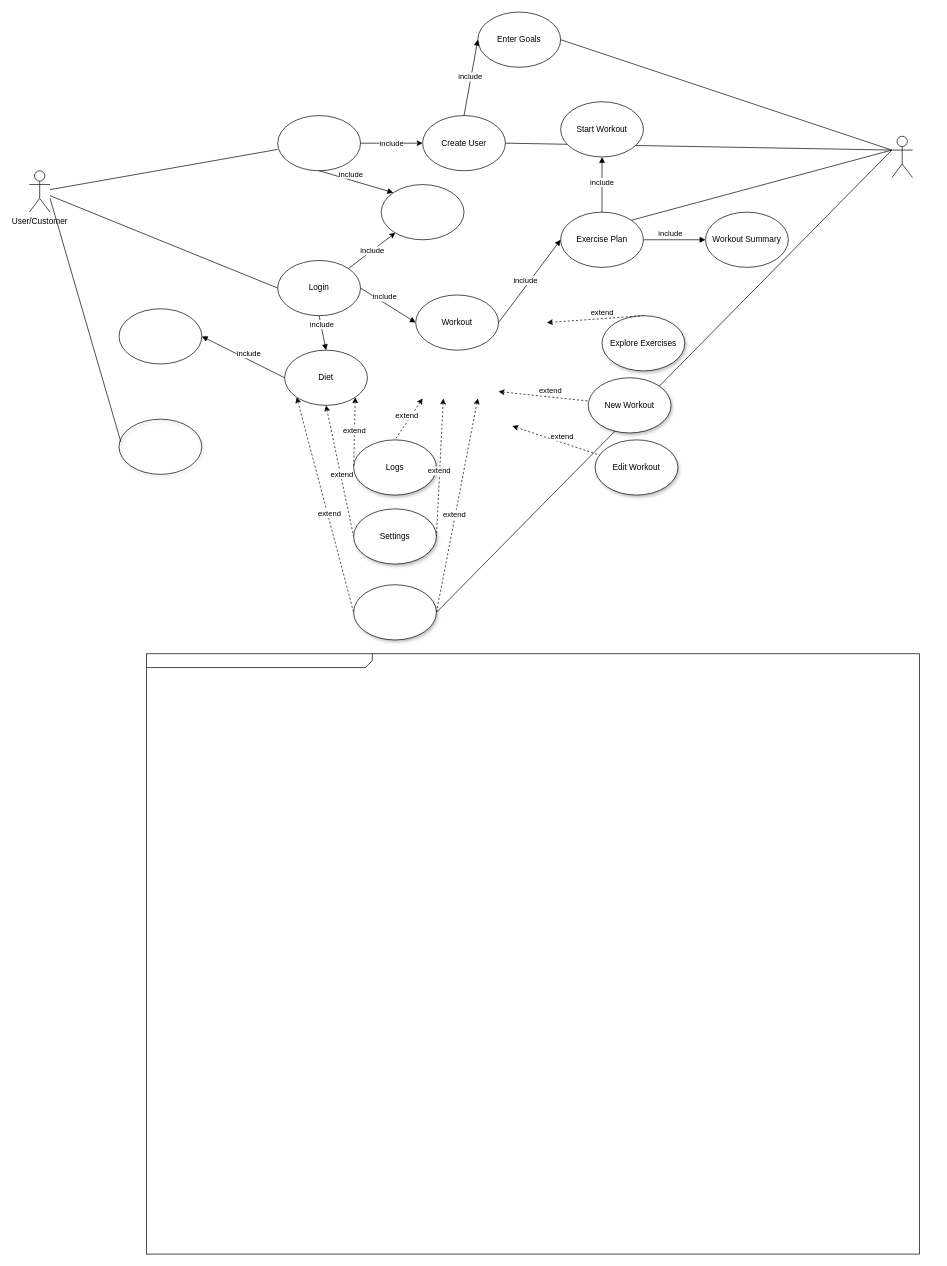
Some shapes in this 947 by 1266 pixel diagram are drawn without their labels. Here are the shapes that lost their labels. From the top down, the centre of each, then its label:
At [319,143]: "SignIn".
At [902,157]: "Database System".
At [422,212]: "Validate Credentials".
At [160,336]: "Diet Plan".
At [161,447]: "Logout".
At [395,613]: "Profile".
At [532,953]: "Workout Tracker app".
